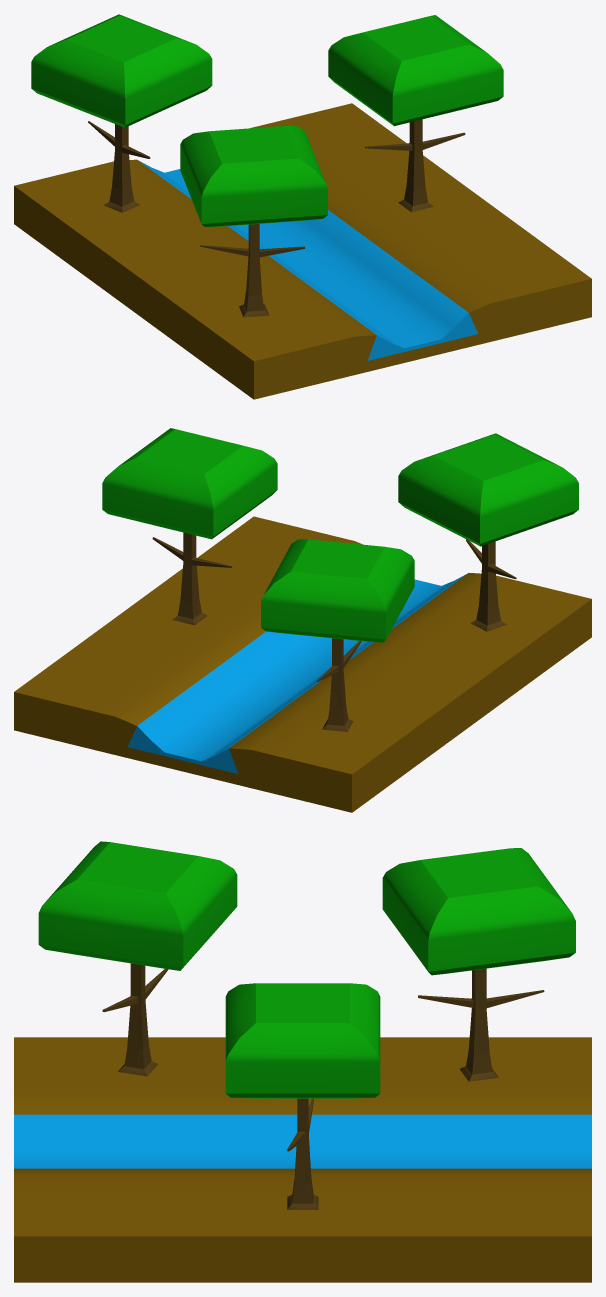
Rendered from riverBank(animated).fbx.
3 views of the same model, one above another, from view 1: azimuth 30°, elevation 25°; view 2: azimuth 150°, elevation 25°; view 3: azimuth 270°, elevation 25° (orthographic). The views are drawn at different scales.
Parts seen in each view (by area): view 1: riverbank, tree2, tree, tree1; view 2: riverbank, tree1, tree, tree2; view 3: riverbank, tree2, tree1, tree.
Part boxes in pixels (x1,y1,x2,y2): riverbank: [14, 103, 591, 399]; tree2: [31, 14, 212, 212]; tree: [328, 15, 503, 212]; tree1: [180, 125, 327, 317]; riverbank: [14, 516, 591, 812]; tree1: [398, 433, 578, 631]; tree: [102, 428, 277, 625]; tree2: [261, 539, 414, 731]; riverbank: [14, 1037, 591, 1282]; tree2: [382, 848, 575, 1081]; tree1: [38, 841, 237, 1076]; tree: [225, 983, 380, 1209].
Size of the model in its own units: 73.63 by 40.22 by 85.49.
